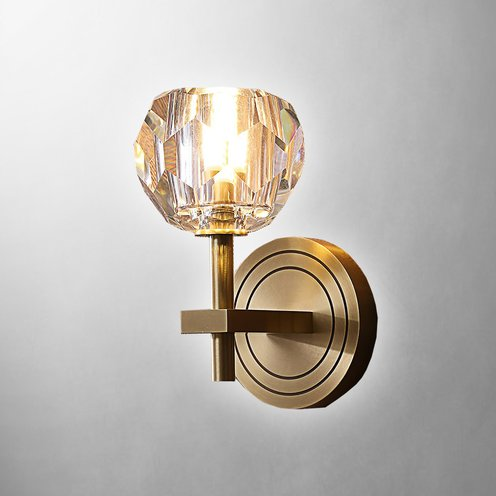Light_bulb: (117, 64, 303, 256)
